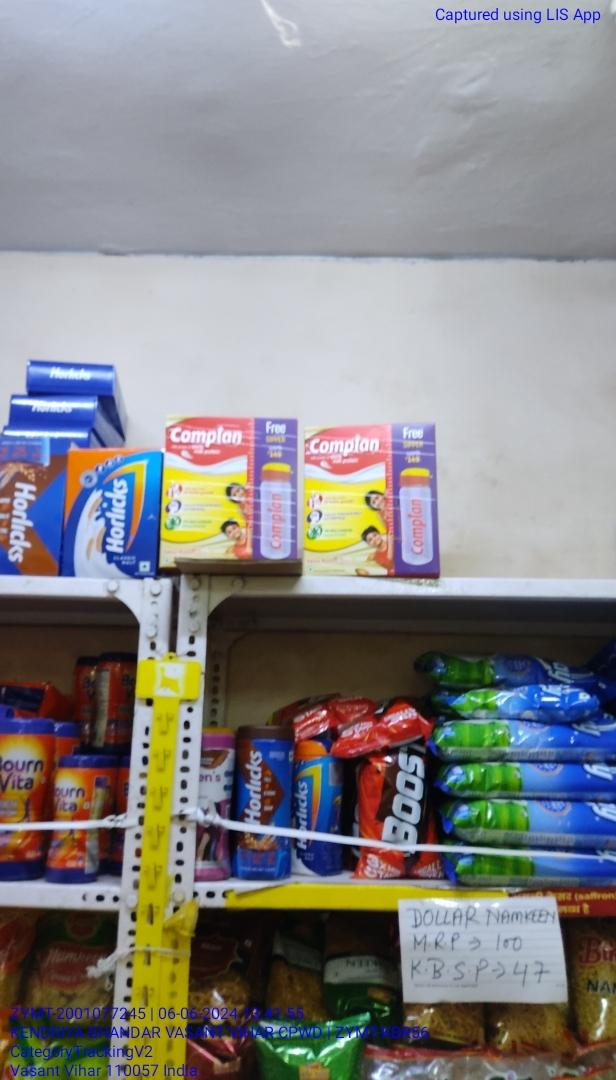BOURN_VITA_1_KG_JAR: (0, 719, 49, 880)
BOURN_VITA_500_G_JAR: (53, 757, 94, 884)
HORLICK_CHOCOLATE_500_G_JAR: (237, 724, 290, 883)
HORLICK_CLASSIC_MALT_500_G_JAR: (292, 742, 350, 882)
HORLICK_CLASSIC_MALT_500_G_PACK: (62, 447, 156, 582)
